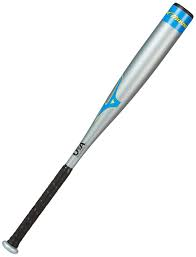baseball bat: (1, 1, 193, 257)
